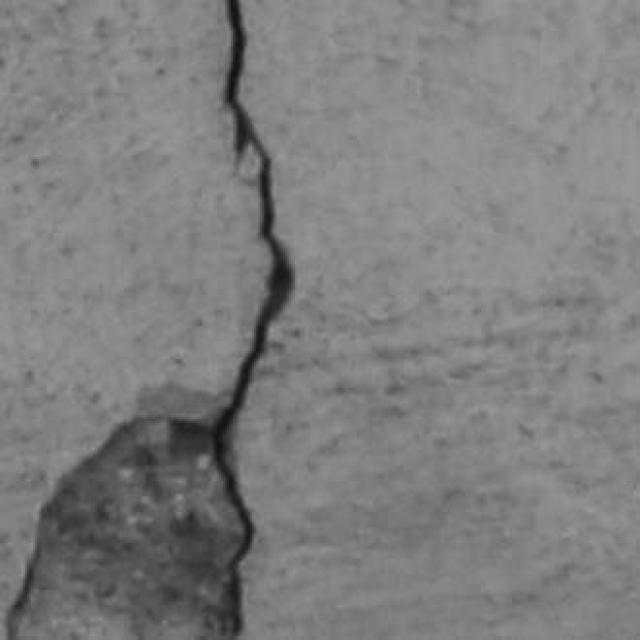crack: (6, 0, 294, 639), (212, 0, 294, 634)
